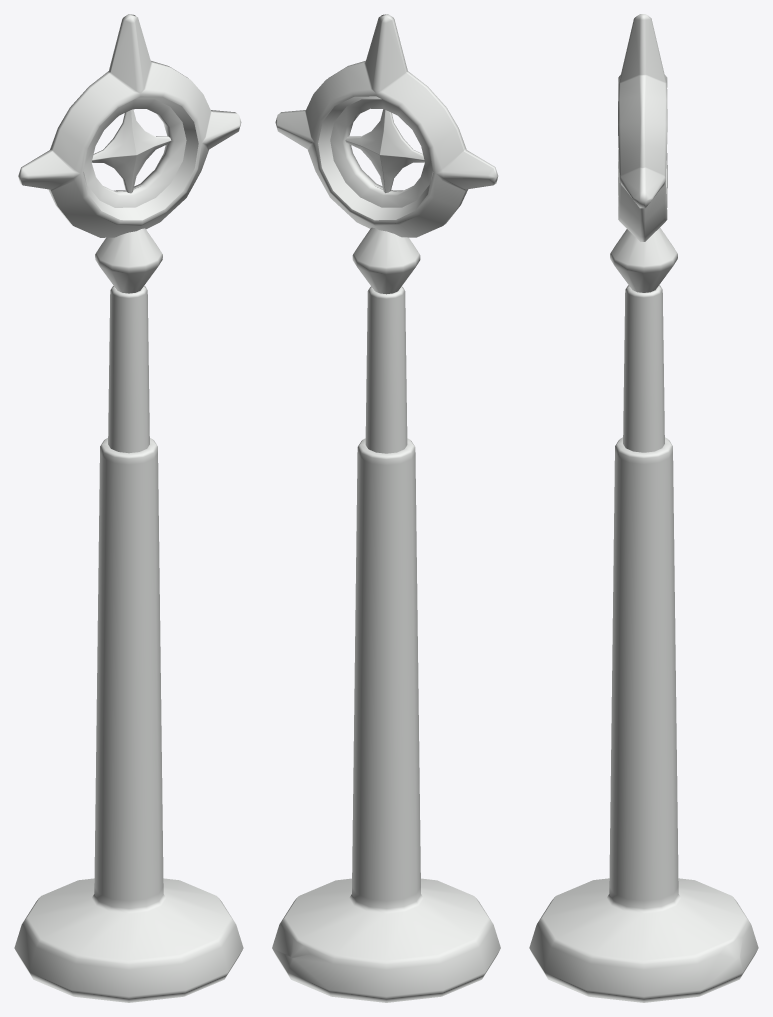
File: CharSkyKid_Prop_MicStandWhite.glb
3 renders of one model, left to right at view 1: azimuth 30°, elevation 25°; view 2: azimuth 150°, elevation 25°; view 3: azimuth 270°, elevation 25°, orthographic.
Visible parts, largest first — view 1: CharSkyKid_Prop_MicStandWhite; view 2: CharSkyKid_Prop_MicStandWhite; view 3: CharSkyKid_Prop_MicStandWhite.
Boxes of the visible parts, x1=… form: CharSkyKid_Prop_MicStandWhite: x1=14, y1=14, x2=243, y2=1002; CharSkyKid_Prop_MicStandWhite: x1=272, y1=14, x2=500, y2=1002; CharSkyKid_Prop_MicStandWhite: x1=529, y1=14, x2=758, y2=1002.
Bounding box in the file's own units: 2.99 × 12.2 × 2.69.
Materials: 1 (1 with a texture image).
